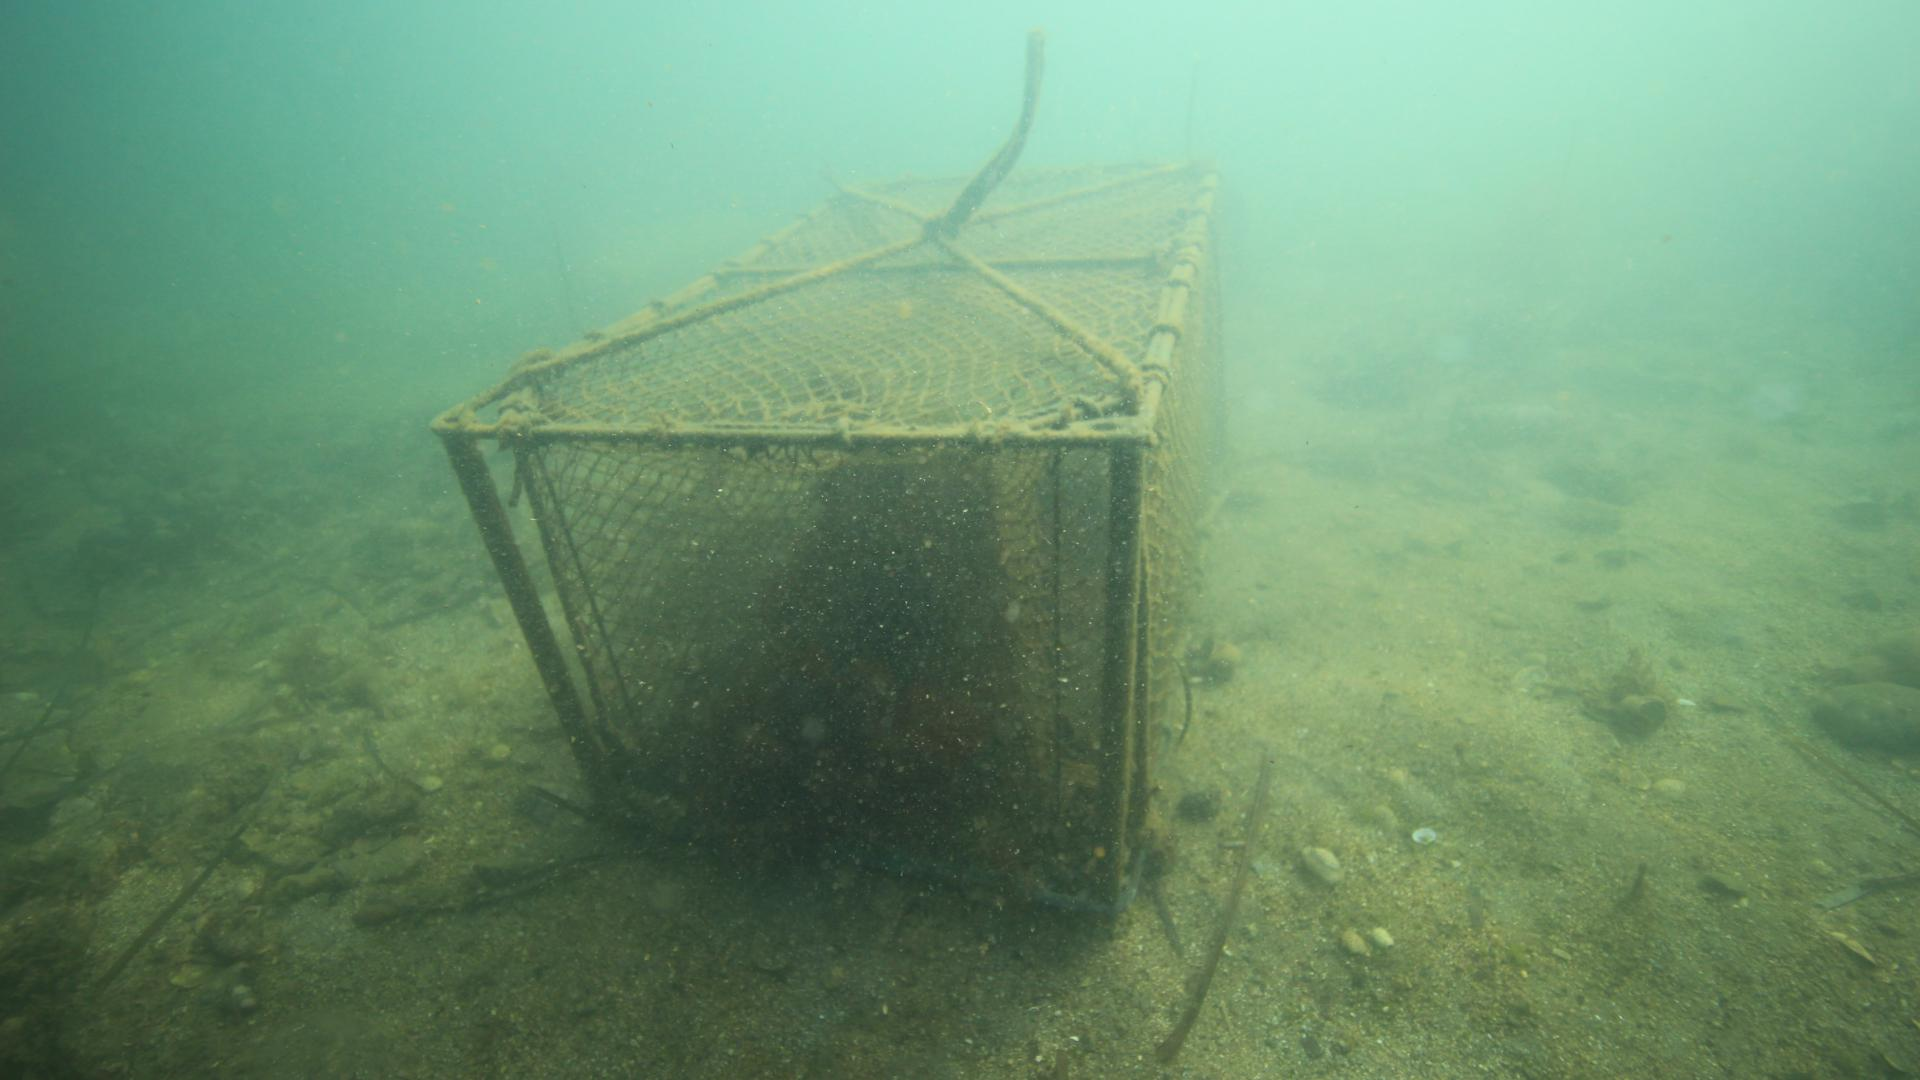bundle of ropes: (837, 22, 1051, 265)
rectangular fish trap: (426, 157, 1218, 923)
